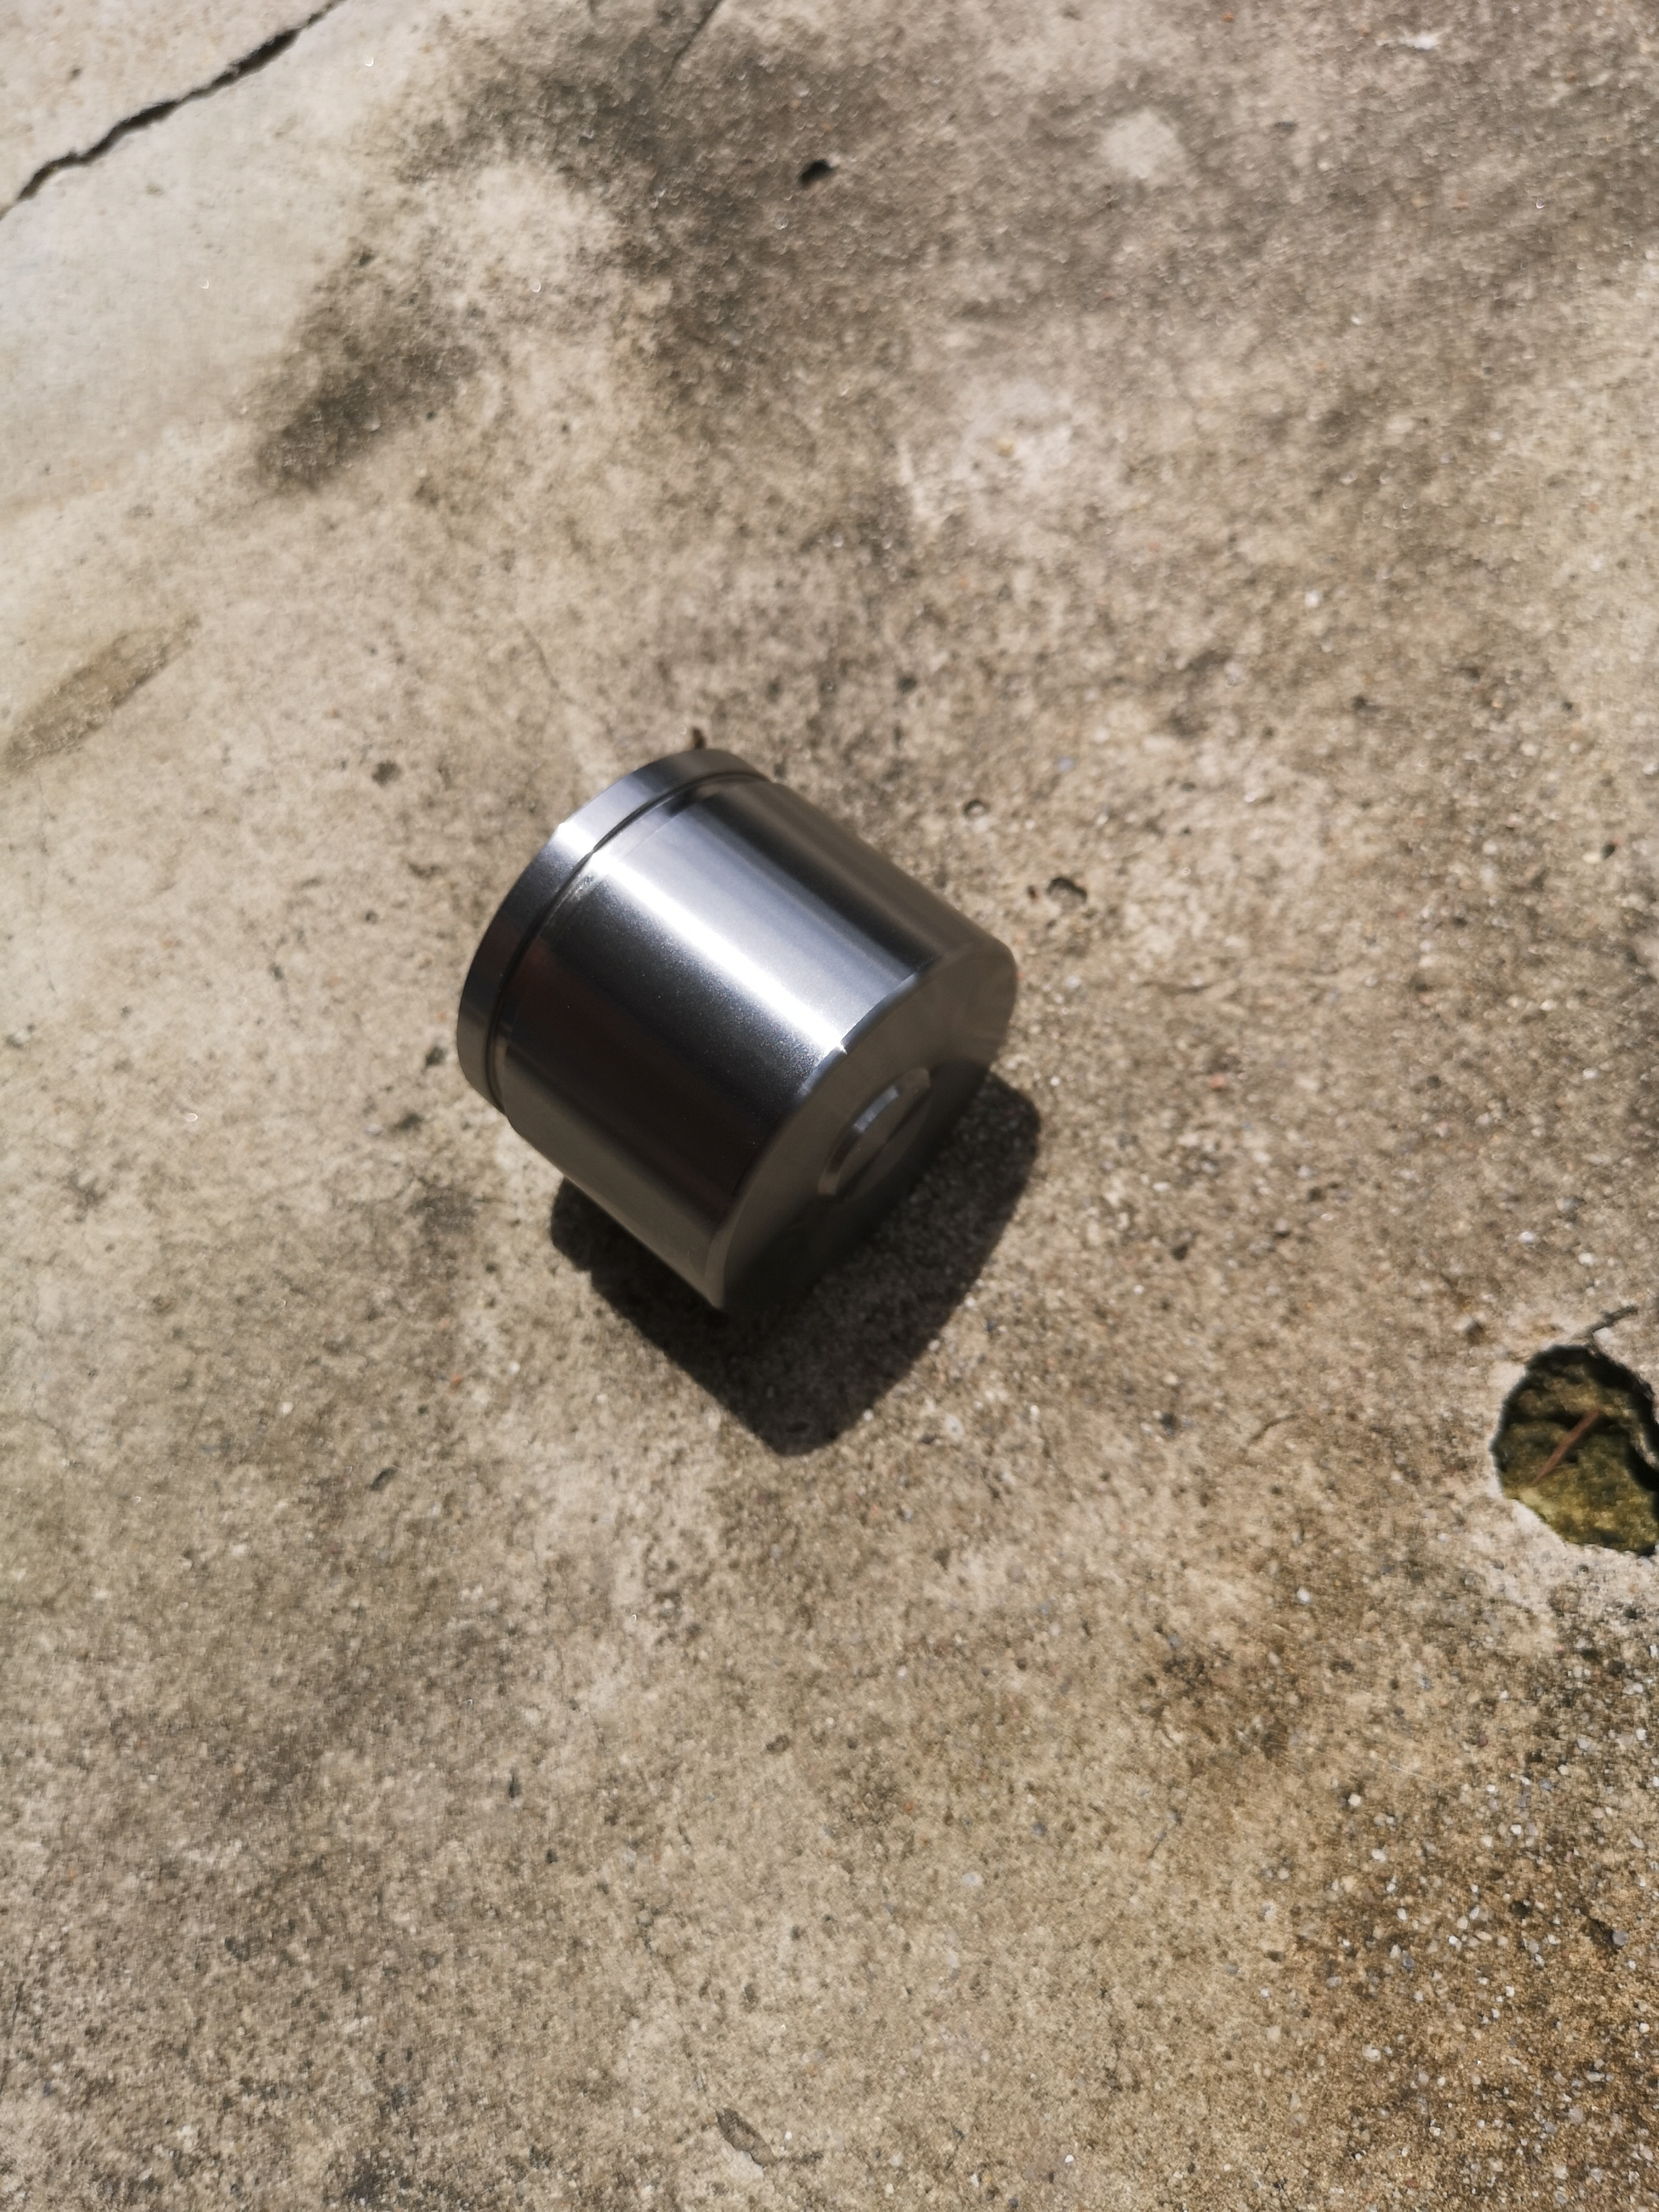ลูกสูบดิสเบรค: (342, 725, 1087, 1435)
